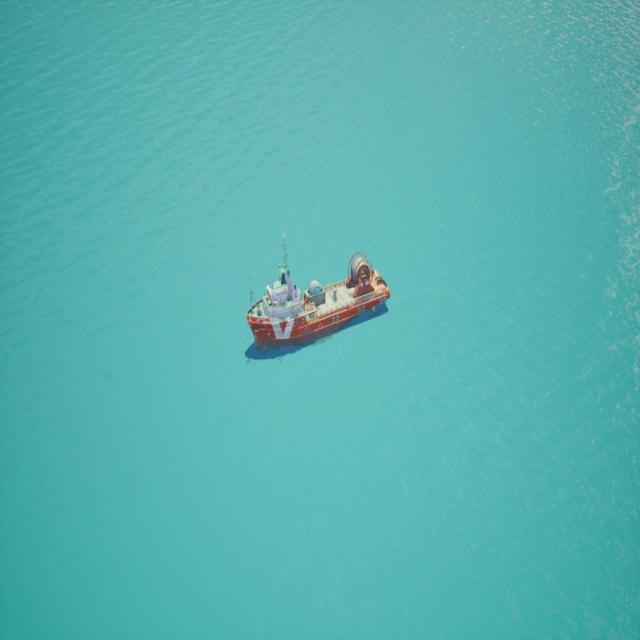tug boat: (255, 249, 398, 379)
